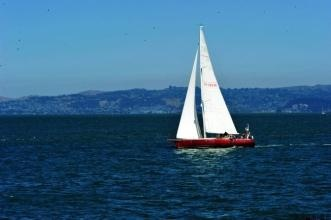fanchuan: (166, 21, 266, 153)
